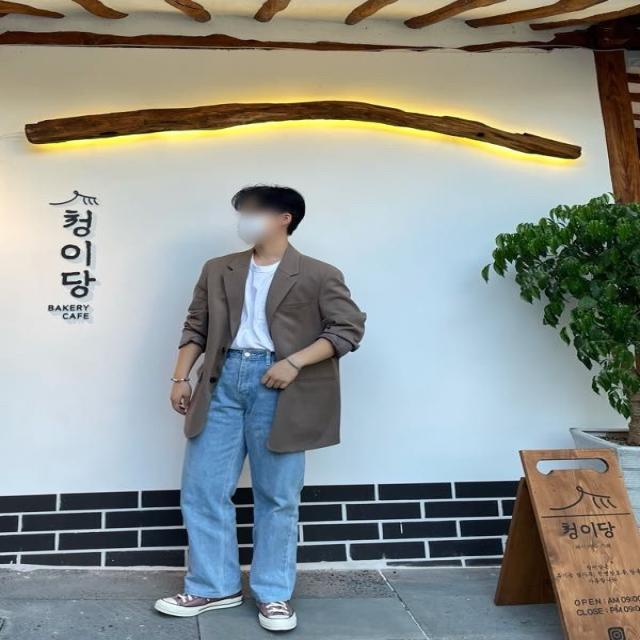blazer: (172, 240, 366, 457)
denimpants: (180, 344, 305, 604)
